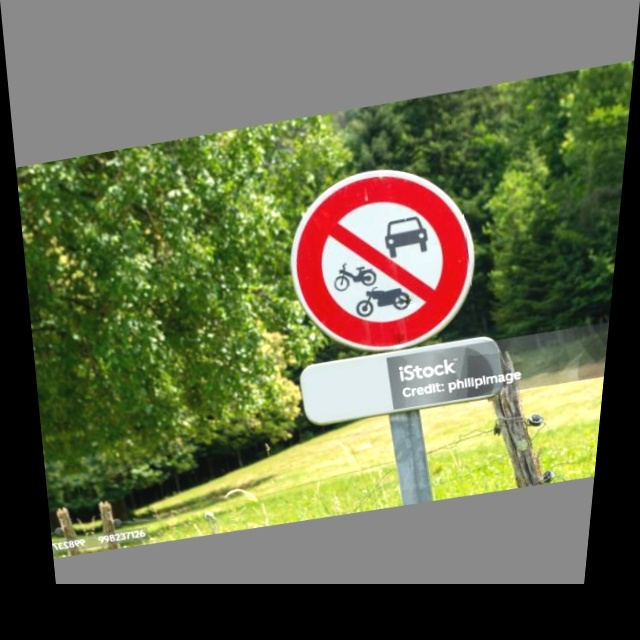All_Motor_Vehicles_Prohibited: (276, 154, 488, 363)
